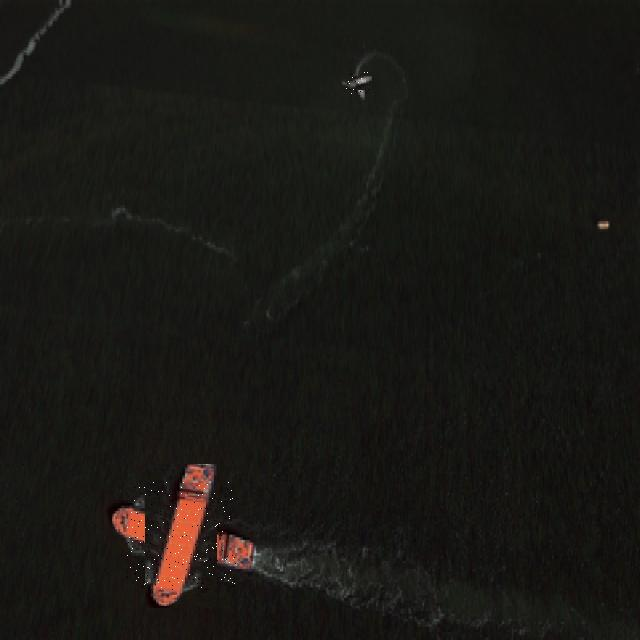boat: (127, 482, 236, 590), (346, 72, 369, 94), (595, 216, 608, 226)
